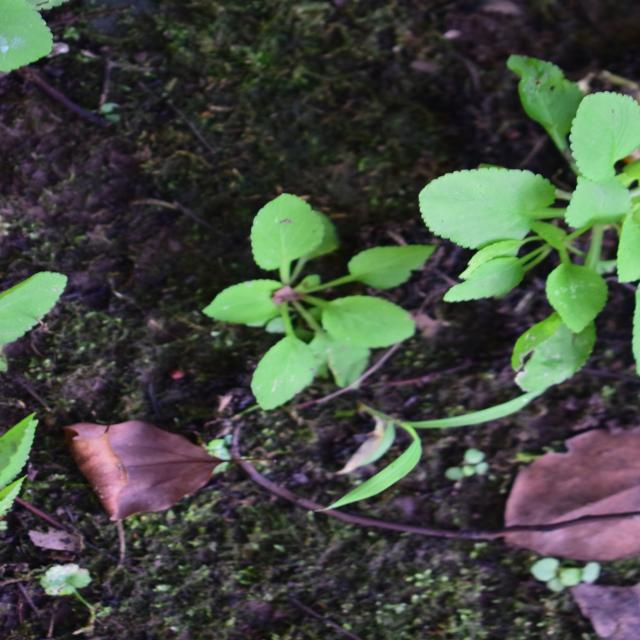Viola: (210, 212, 439, 457)
